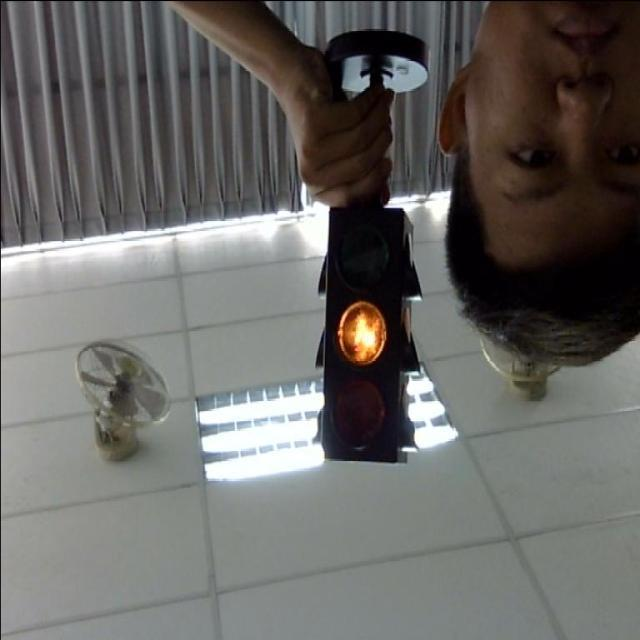yellow_light: (316, 203, 450, 460)
